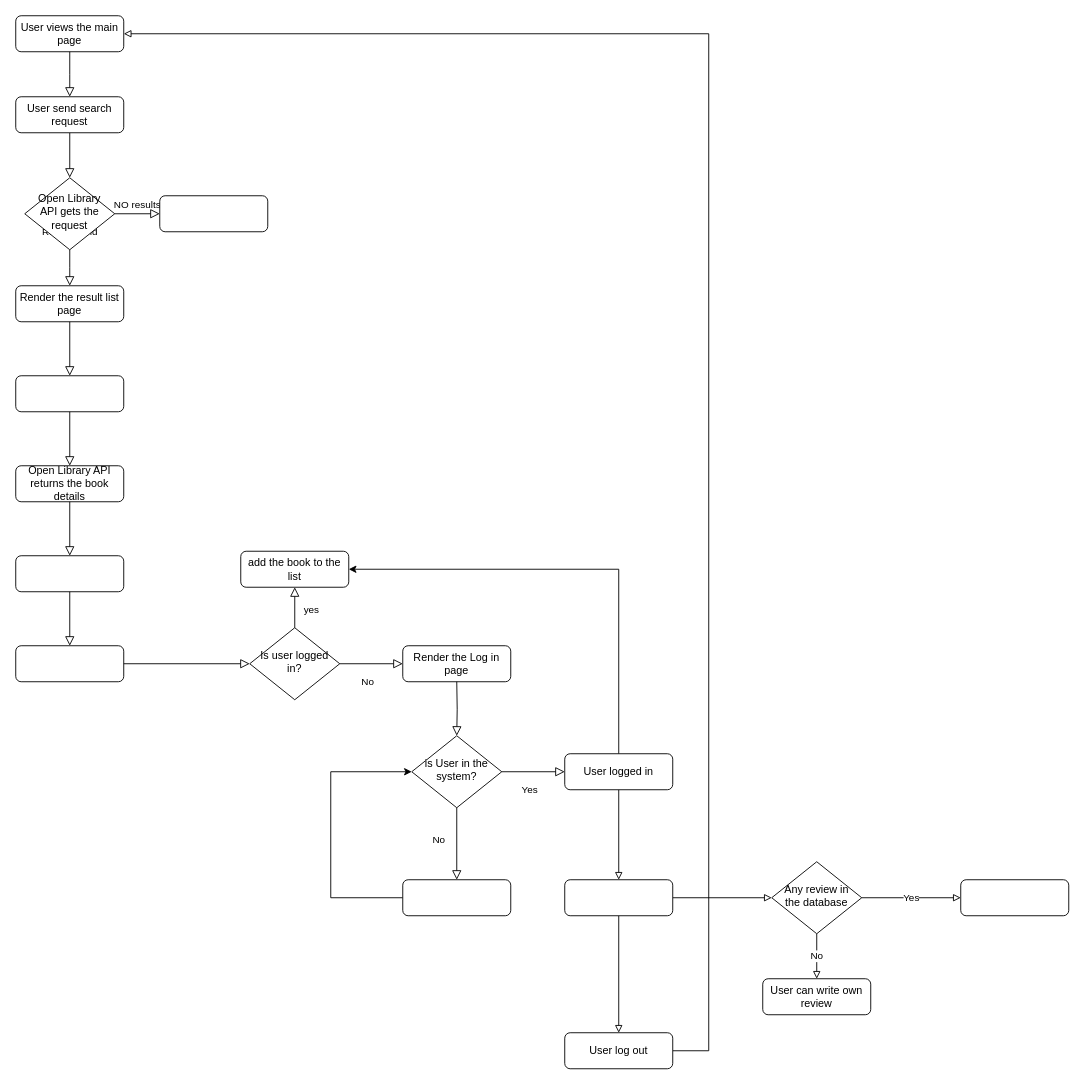
Some shapes in this 1085 by 1085 pixel diagram are drawn without their labels. Each missing label, with the centre of its shape:
"Display book reviews" goes at (x=1014, y=897).
"Display no result to user" goes at (x=213, y=213).
"Render the book details" goes at (x=69, y=573).
"User select the desired book" goes at (x=69, y=393).
"User sign up" goes at (x=456, y=897).
"User wants to check book reviews" goes at (x=618, y=897).
"User wants to save the book to his list" goes at (x=69, y=663).
